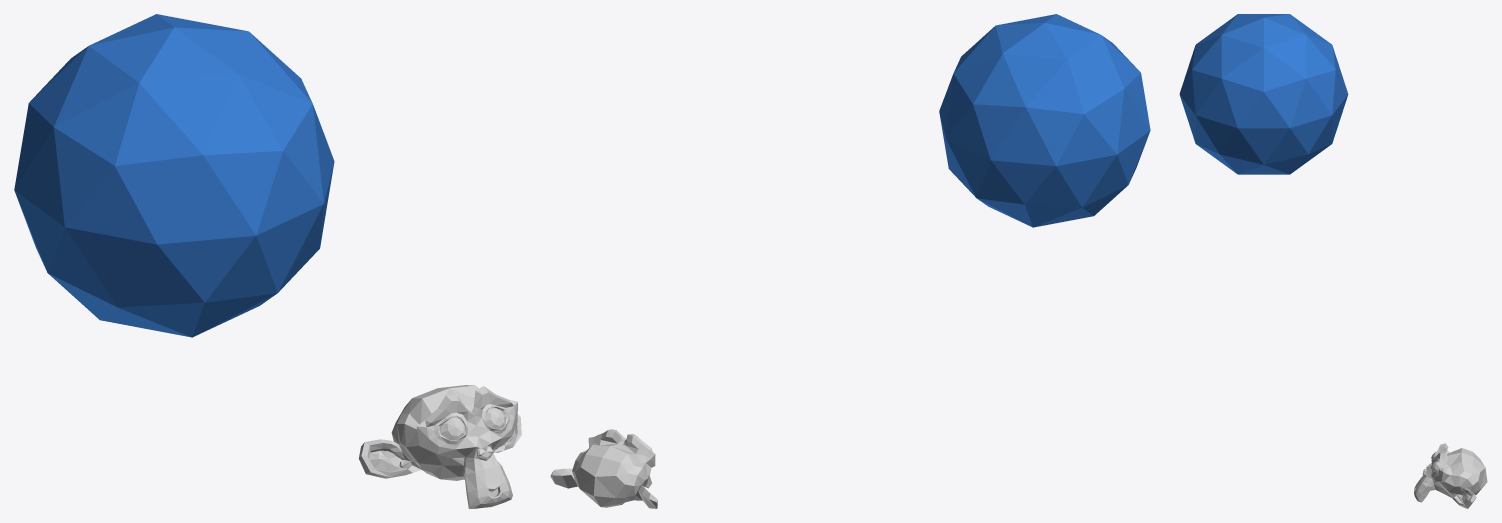
Rendered from texture_07.dae.
3 renders of one model, left to right at view 1: azimuth 30°, elevation 25°; view 2: azimuth 150°, elevation 25°; view 3: azimuth 270°, elevation 25°, orthographic. The views are drawn at different scales.
Visible parts, largest first — view 1: Icosphere, Suzanne; view 2: Icosphere, Suzanne; view 3: Icosphere, Suzanne.
Boxes of the visible parts, x1,y1,x2,y2 form: Icosphere: (14,14,334,337); Suzanne: (358,385,521,508); Icosphere: (939,14,1150,227); Suzanne: (550,429,657,508); Icosphere: (1179,14,1348,174); Suzanne: (1414,443,1487,508).
Bounding box in the file's own units: 4.81 × 3.65 × 4.75.
